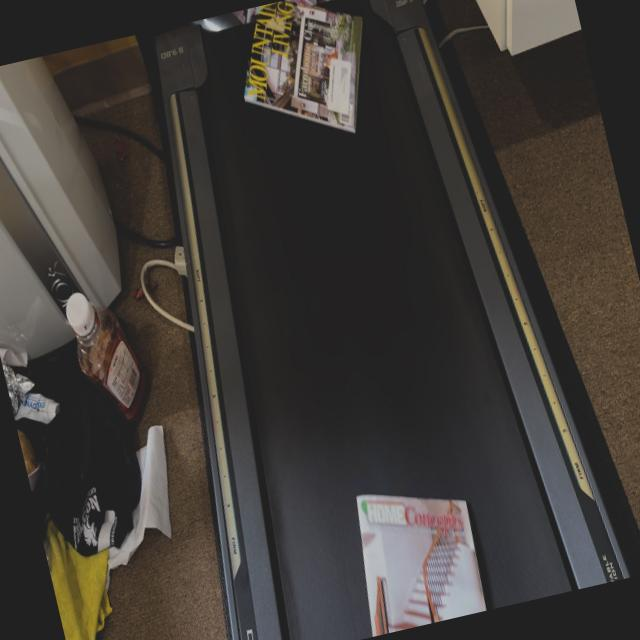Recycle: (220, 0, 386, 156), (338, 468, 492, 636)
